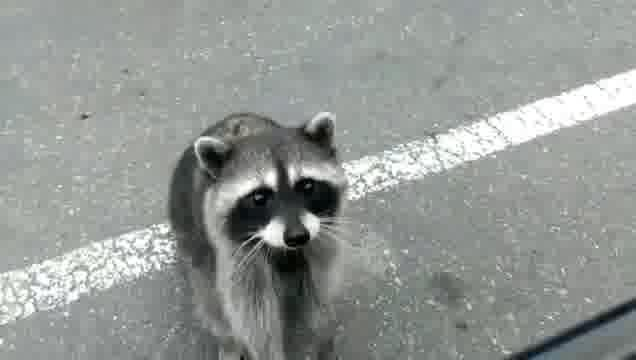raccoon: (167, 112, 349, 360)
